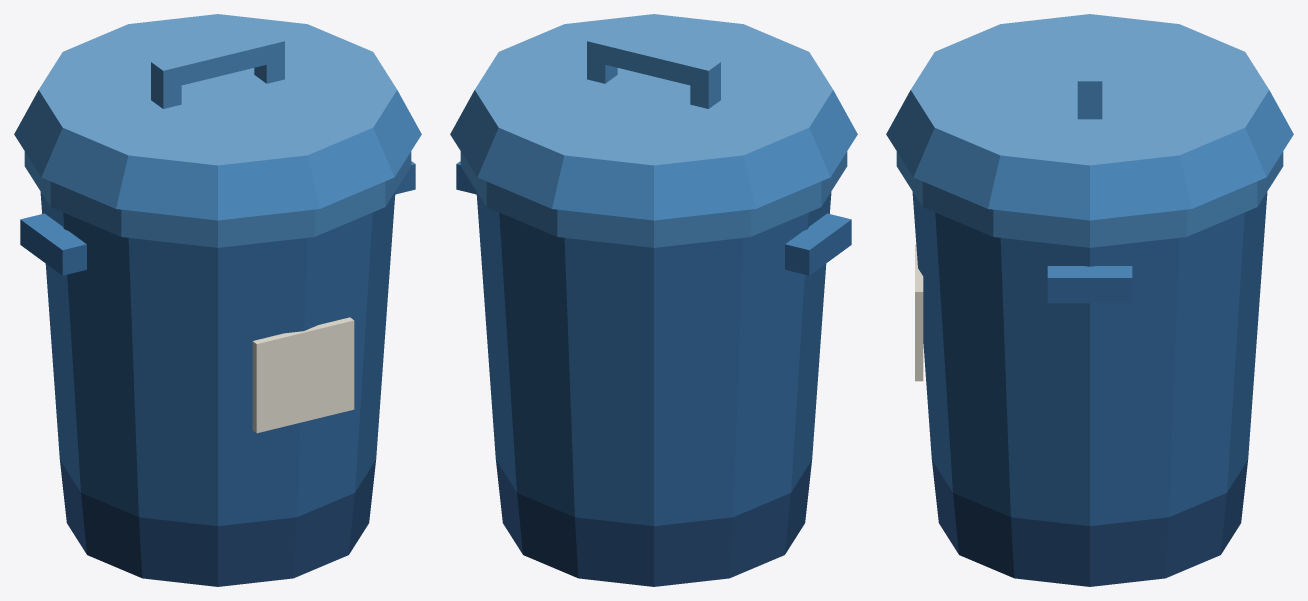
File: TrashCan_BackAlley.fbx
3 views of the same model, side by side, from view 1: azimuth 30°, elevation 25°; view 2: azimuth 150°, elevation 25°; view 3: azimuth 270°, elevation 25° (orthographic).
Parts seen in each view (by area): view 1: Body, Lid, Label; view 2: Body, Lid; view 3: Body, Lid, Label.
Part boxes in pixels (x1,y1,x2,y2): Body: [20, 151, 415, 586]; Lid: [14, 14, 421, 220]; Label: [252, 317, 354, 433]; Body: [456, 151, 851, 586]; Lid: [450, 14, 857, 220]; Body: [896, 151, 1283, 586]; Lid: [886, 14, 1293, 220]; Label: [915, 244, 923, 381].
Bounding box in the file's own units: 0.783 × 0.999 × 0.783.
